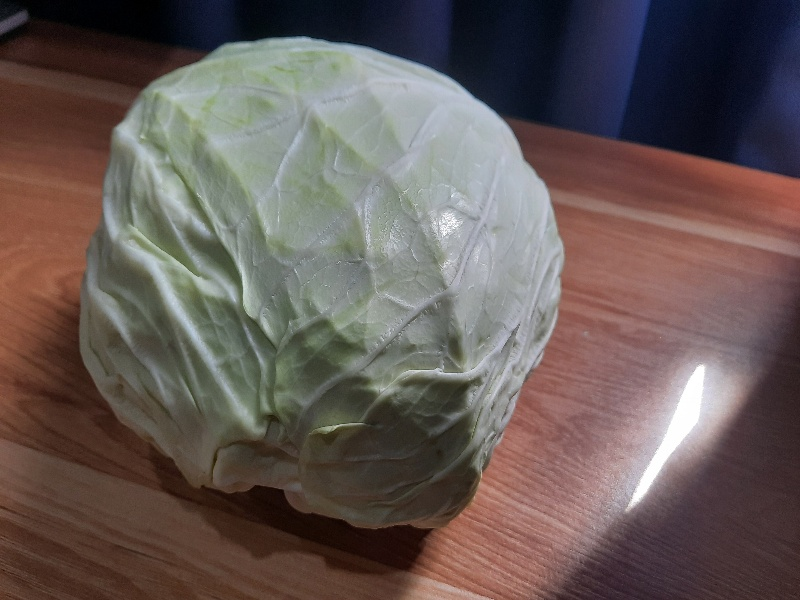vege: (79, 32, 571, 541)
